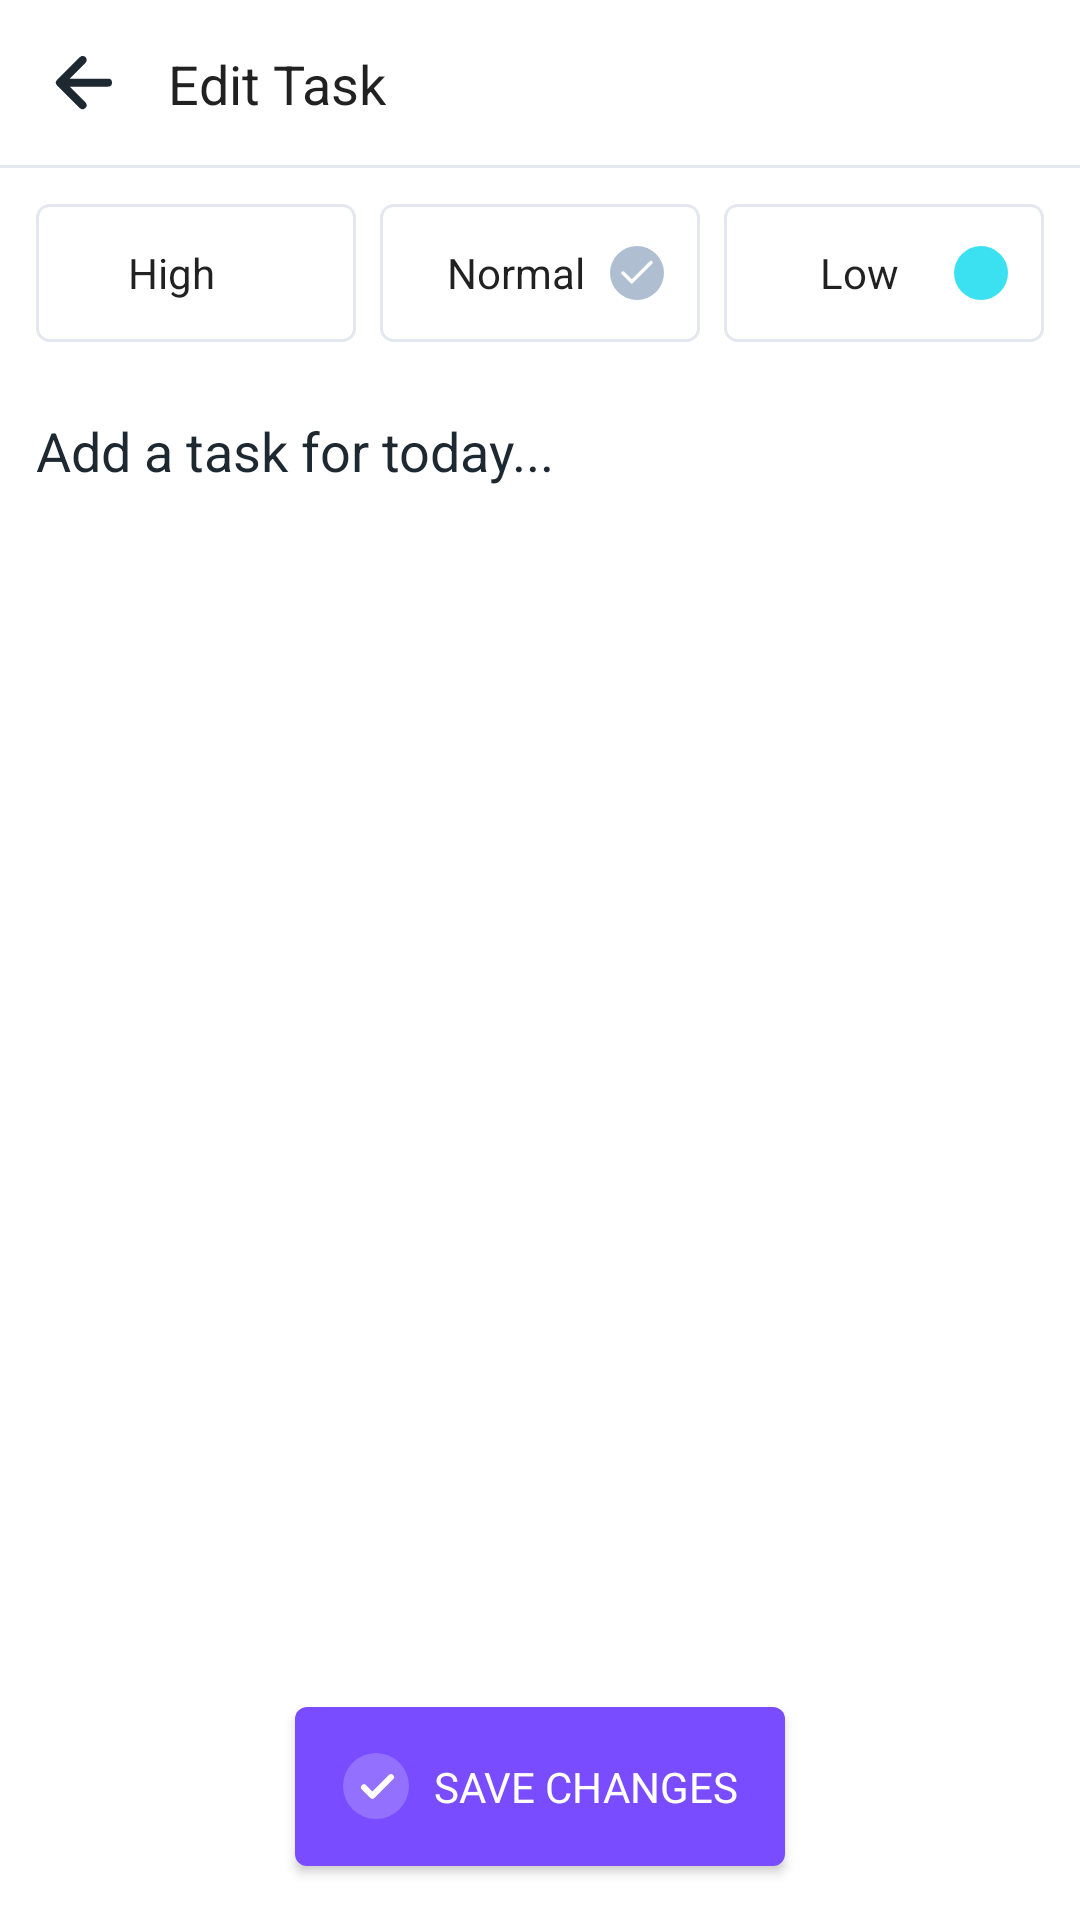

Point at icon controls on the screen. Image size 1080w x 1920h, points as (x,y).
back: (83,83)
